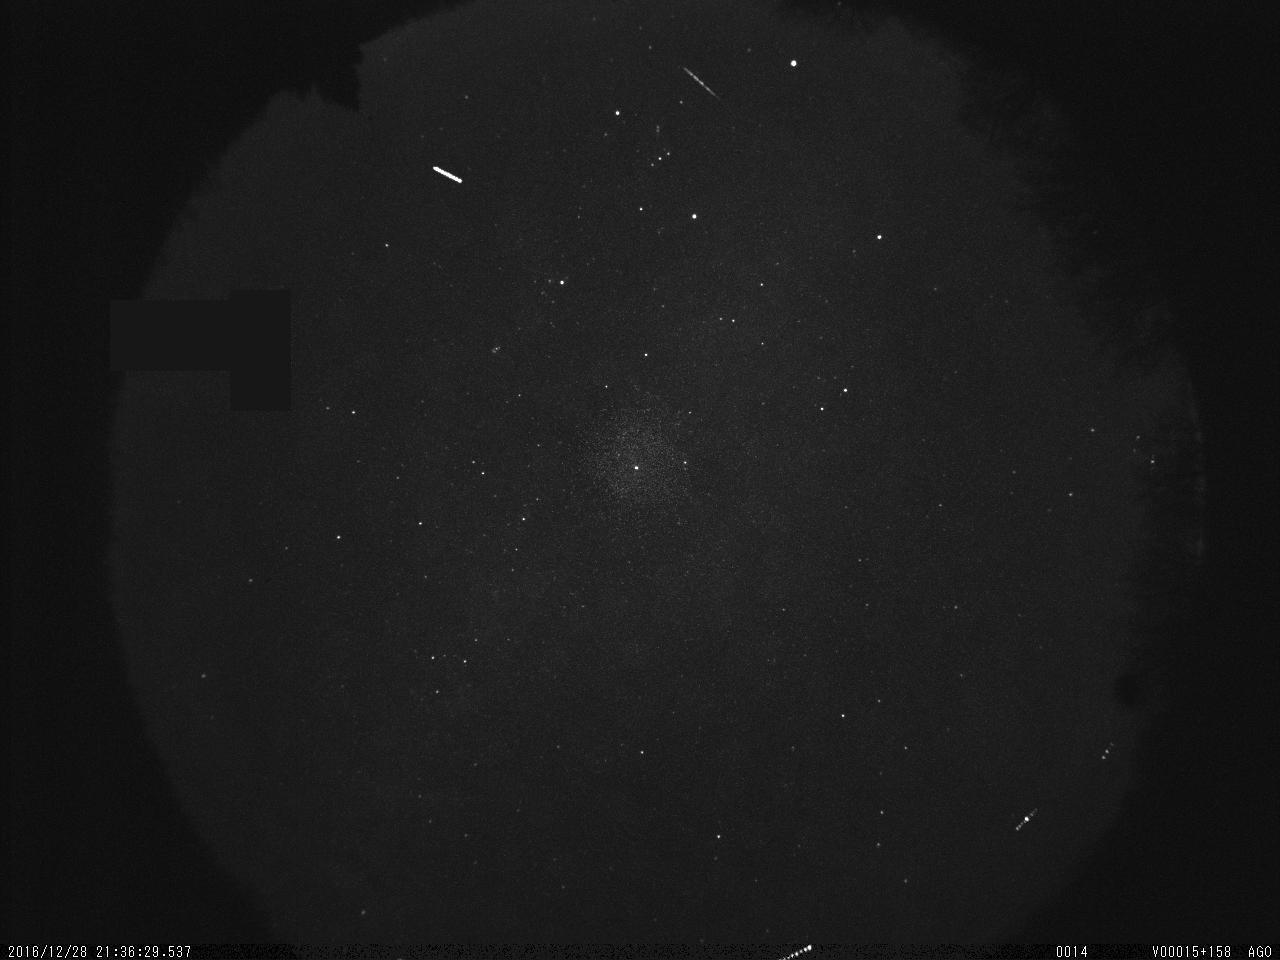meteor: (672, 55, 733, 106)
satelite: (425, 152, 468, 196), (777, 938, 816, 960)
